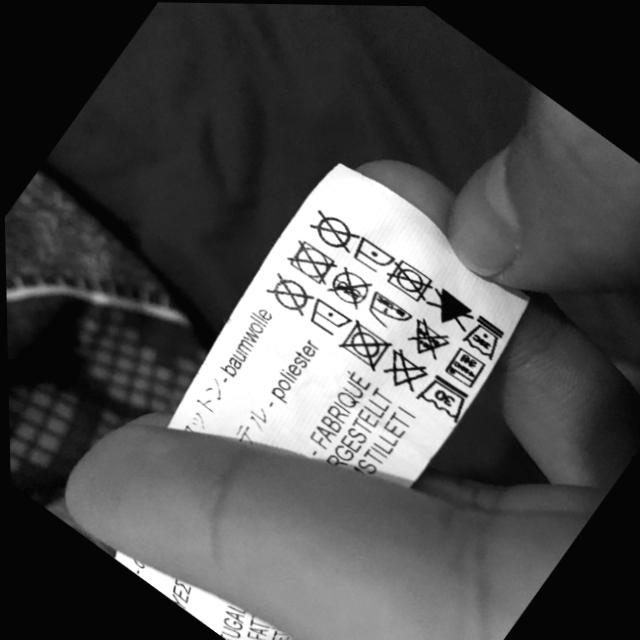30C: (423, 380, 471, 415), (468, 317, 506, 354), (449, 350, 488, 385)
DN_bleach: (431, 285, 479, 326), (387, 348, 430, 387), (415, 316, 454, 353)
DN_dry_clean: (269, 277, 315, 314), (334, 267, 376, 304), (315, 213, 356, 248)
DN_tumble_dry: (344, 324, 394, 366), (288, 244, 340, 284), (390, 258, 434, 303)
iron_low: (357, 234, 396, 271), (369, 296, 415, 325), (315, 302, 352, 335)
